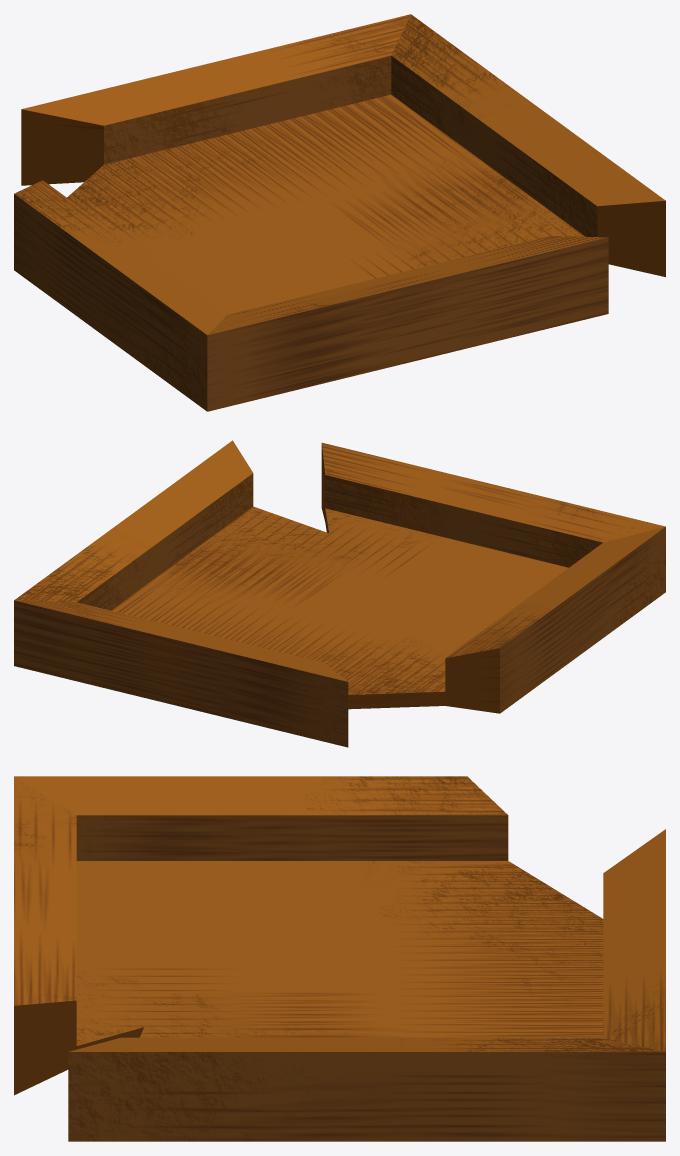
The picture shows the model from 3 angles, top to bottom: view 1: azimuth 30°, elevation 25°; view 2: azimuth 150°, elevation 25°; view 3: azimuth 270°, elevation 25°; orthographic projection. The views are drawn at different scales.
Visible parts, largest first — view 1: 작은 액자; view 2: 작은 액자; view 3: 작은 액자.
Part boxes in pixels (x1,y1,x2,y2): 작은 액자: (14, 14, 665, 411); 작은 액자: (14, 440, 665, 747); 작은 액자: (14, 776, 665, 1141).
Size of the model in its own units: 303 by 46.03 by 303.
Materials: 1 (1 with a texture image).
